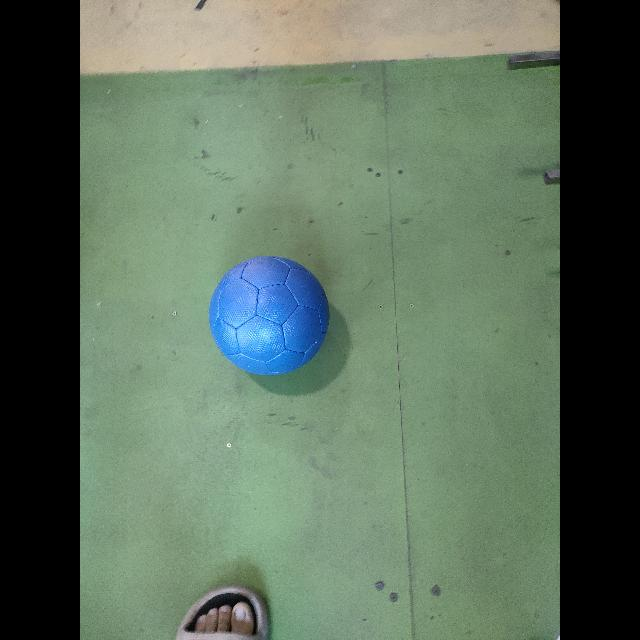B: (208, 256, 331, 378)
